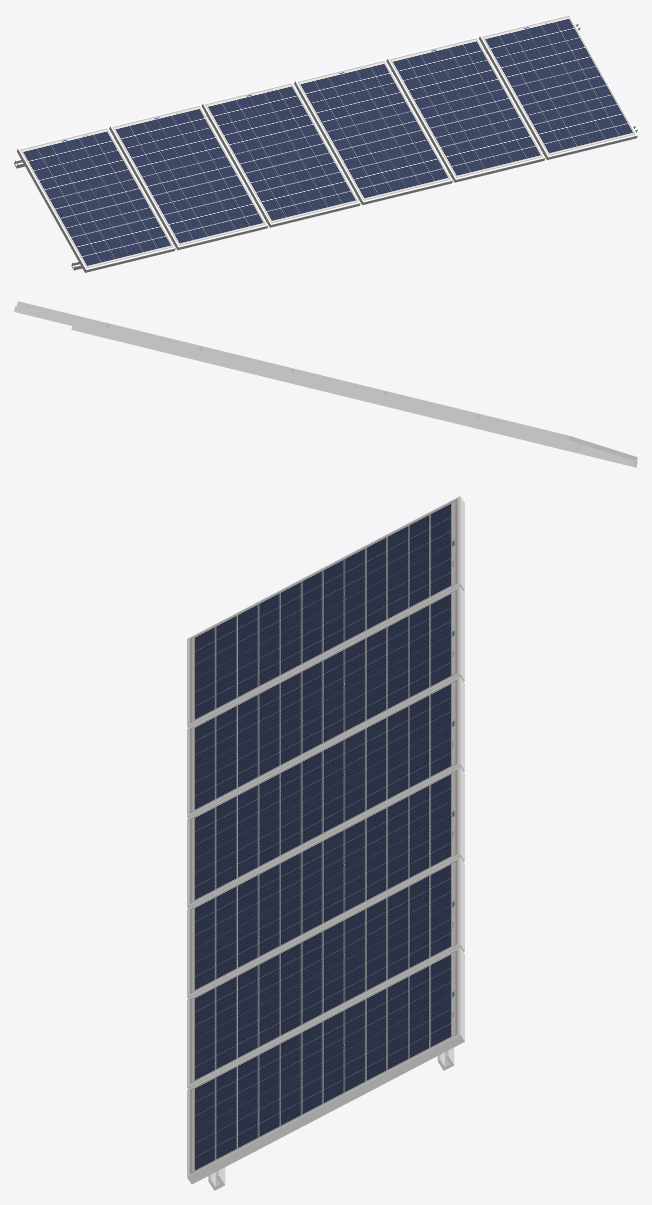
Rendered from Android solar.glb.
3 views of the same model, one above another, from view 1: azimuth 30°, elevation 25°; view 2: azimuth 150°, elevation 25°; view 3: azimuth 270°, elevation 25° (orthographic). The views are drawn at different scales.
Parts seen in each view (by area): view 1: SimLab_2024-11-10-11-17-25; view 2: SimLab_2024-11-10-11-17-25; view 3: SimLab_2024-11-10-11-17-25.
Part boxes in pixels (x1,y1,x2,y2): SimLab_2024-11-10-11-17-25: [14, 14, 637, 272]; SimLab_2024-11-10-11-17-25: [14, 301, 637, 467]; SimLab_2024-11-10-11-17-25: [187, 496, 464, 1190].
Bounding box in the file's own units: 420 × 53.96 × 89.83.
3 materials, 1 textured.
